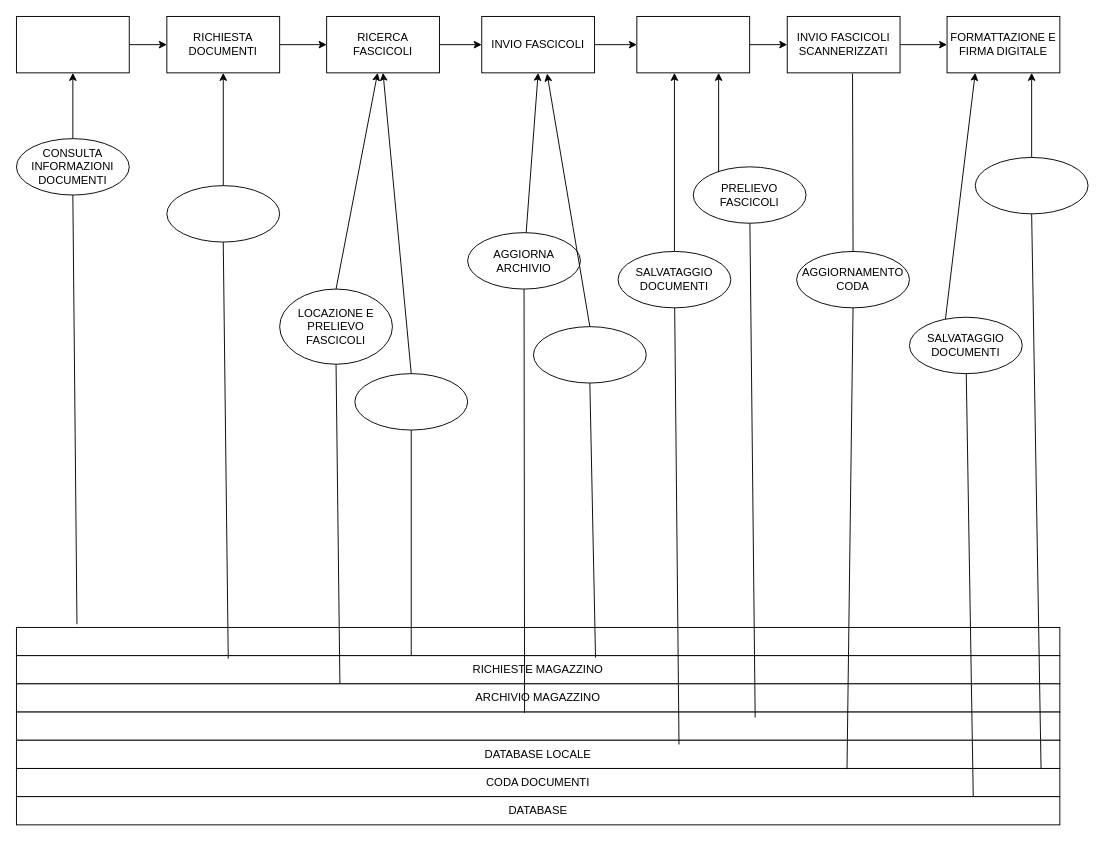
This 1105x841 diagram has some shape labels left out. Each missing label, with the centre of its shape:
"ACQUISIZIONE INFORMAZIONI DOCUMENTI" goes at point 72,44.
"AGGIORNA RICHIESTE" goes at point 589,354.
"ARCHIVIO LOCALE" goes at point 538,725.
"INFORMAZIONI DOCUMENTI" goes at point 538,641.
"LETTURA RICHIESTE" goes at point 411,401.
"PRELIEVO DOCUMENTI" goes at point 1031,185.
"REGISTRA RICHIESTA MAGAZZINO" goes at point 223,213.
"SCANNERIZZAZIONE" goes at point 693,44.
